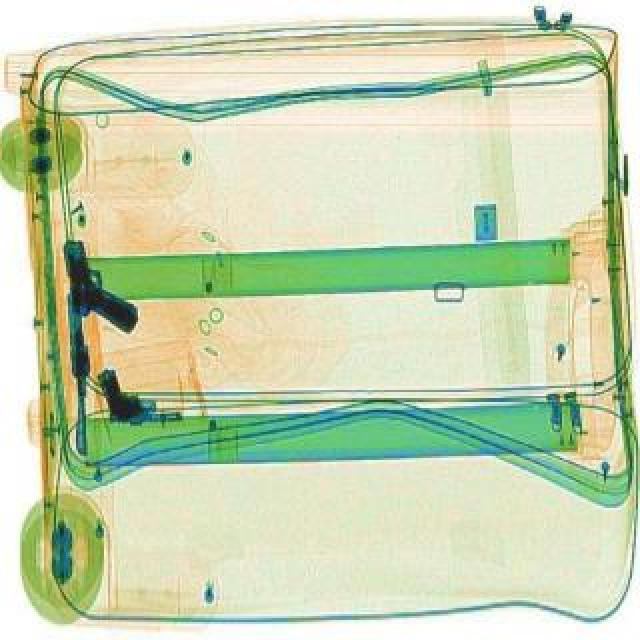gun: (30, 238, 154, 346), (86, 360, 190, 444), (56, 298, 100, 466)
